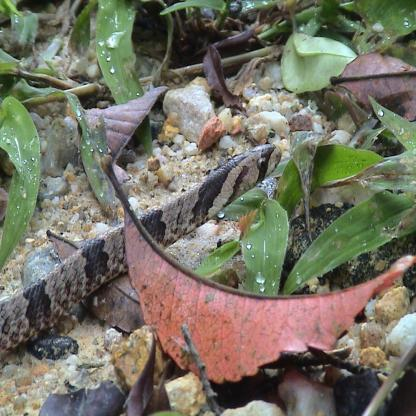Snake: (0, 107, 284, 364), (203, 134, 290, 223)
